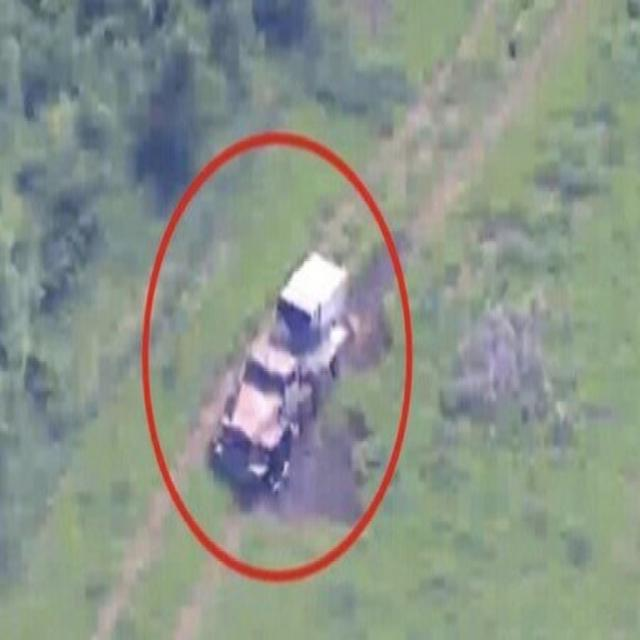MLRS: (208, 240, 352, 500)
